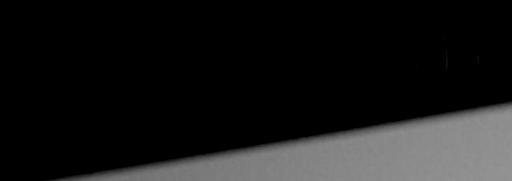letter: (454, 16, 492, 82), (395, 26, 431, 93), (280, 50, 316, 117), (338, 38, 372, 103), (426, 21, 458, 88), (309, 46, 341, 109), (224, 60, 256, 123), (198, 66, 232, 125), (252, 57, 284, 118), (122, 80, 154, 141), (18, 99, 50, 159), (94, 84, 126, 143), (148, 77, 178, 136), (46, 95, 74, 157), (370, 35, 398, 94), (70, 91, 98, 149), (177, 72, 201, 129)
